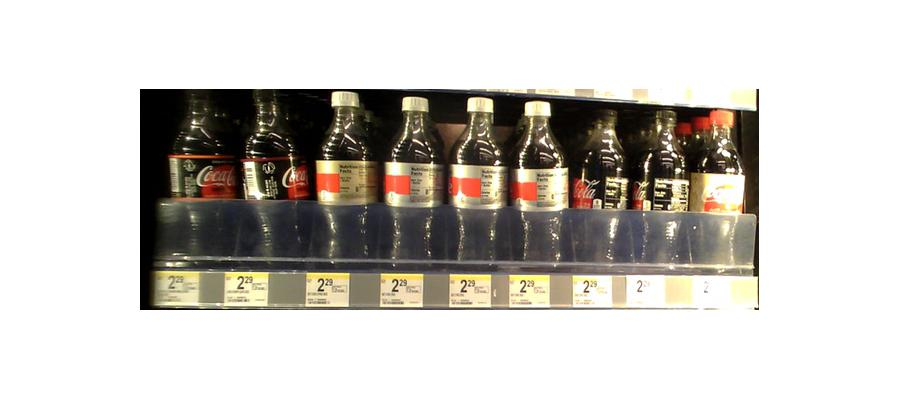bottle: (168, 91, 242, 257), (242, 92, 309, 264), (315, 91, 376, 268), (385, 95, 444, 269), (512, 97, 567, 272), (573, 103, 630, 271), (450, 95, 506, 263), (694, 106, 748, 269), (639, 105, 687, 270)
